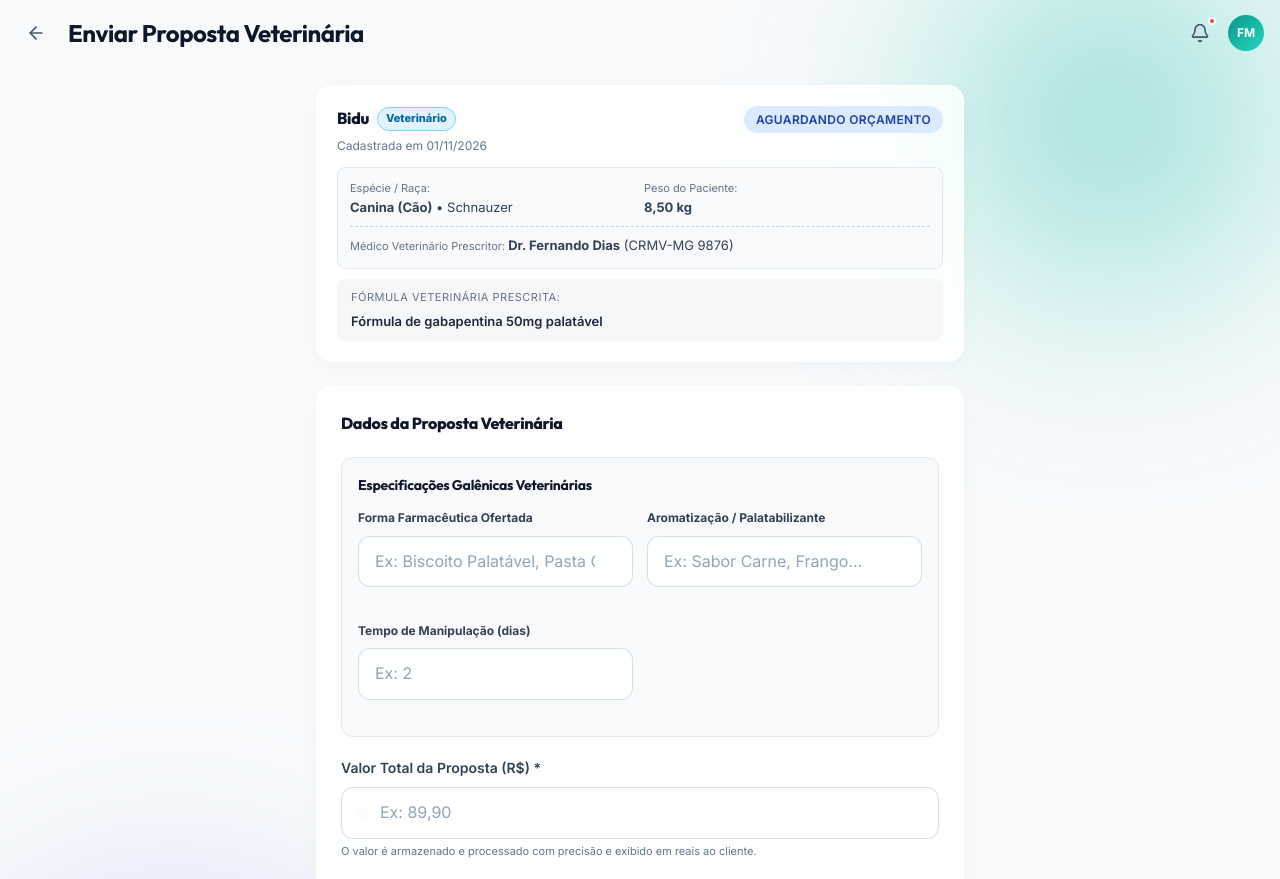
it: SendQuote Component - Farmácia (ETAPA V5) › submete cotação com valor e especificações galênicas veterinárias
The width and height of the screenshot is (1280, 879).
Type "75,00" into the field with placeholder "Ex: 89,90" at [640, 813], box [341,787,939,839]
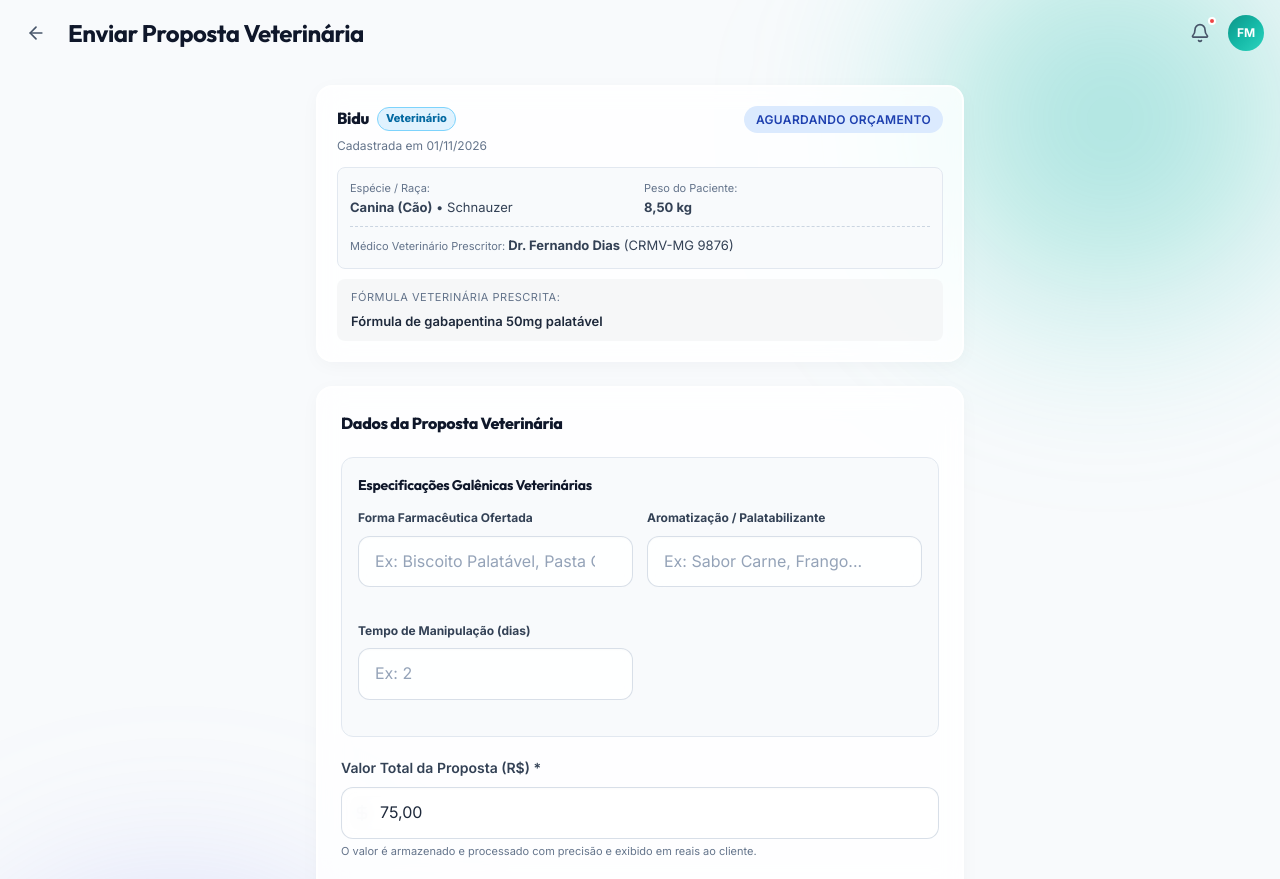
Type "Biscoito Palatável" into the field with placeholder "Ex: Biscoito Palatável, Pasta Oral..." at [496, 561], box [358,536,633,587]
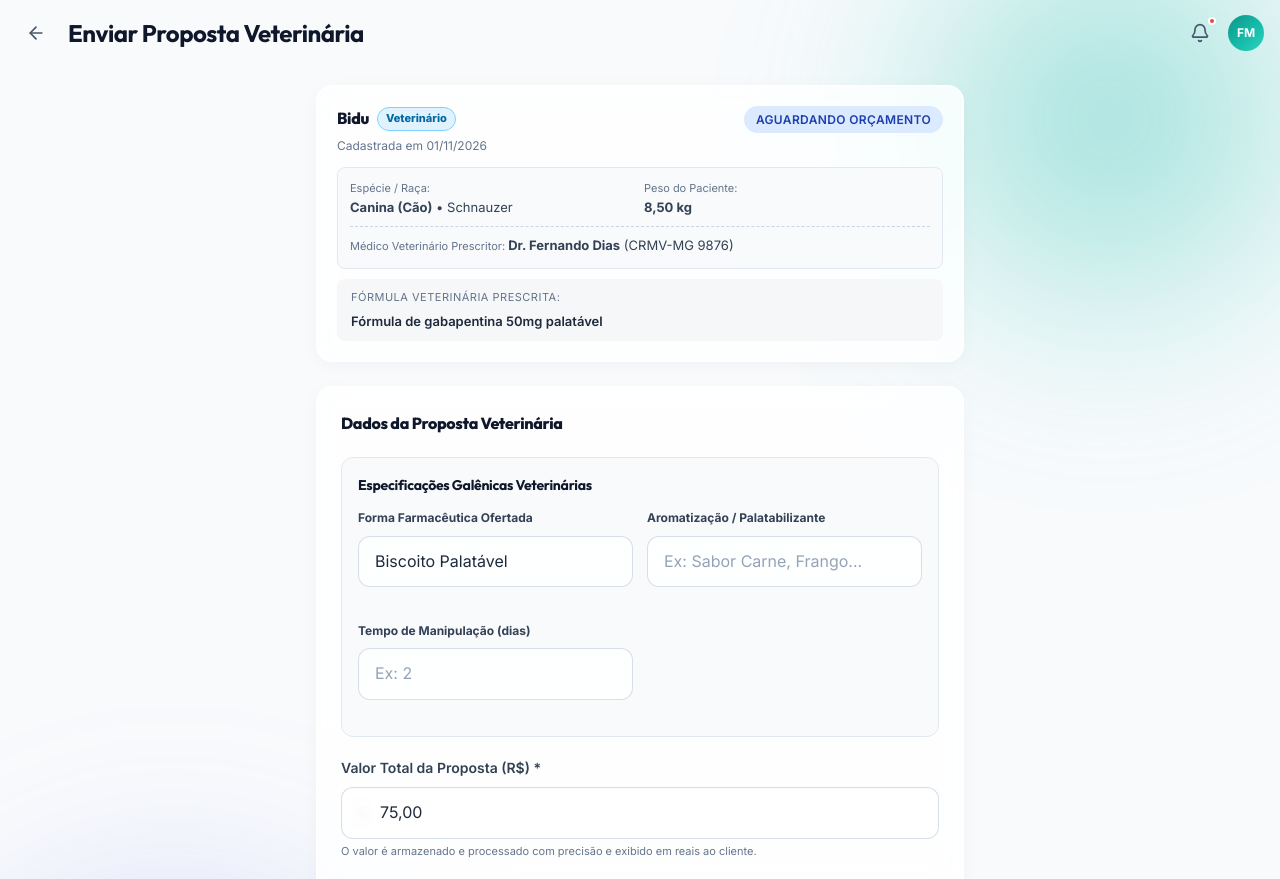
Type "Sabor Carne" into the field with placeholder "Ex: Sabor Carne, Frango..." at [784, 561], box [647,536,922,587]
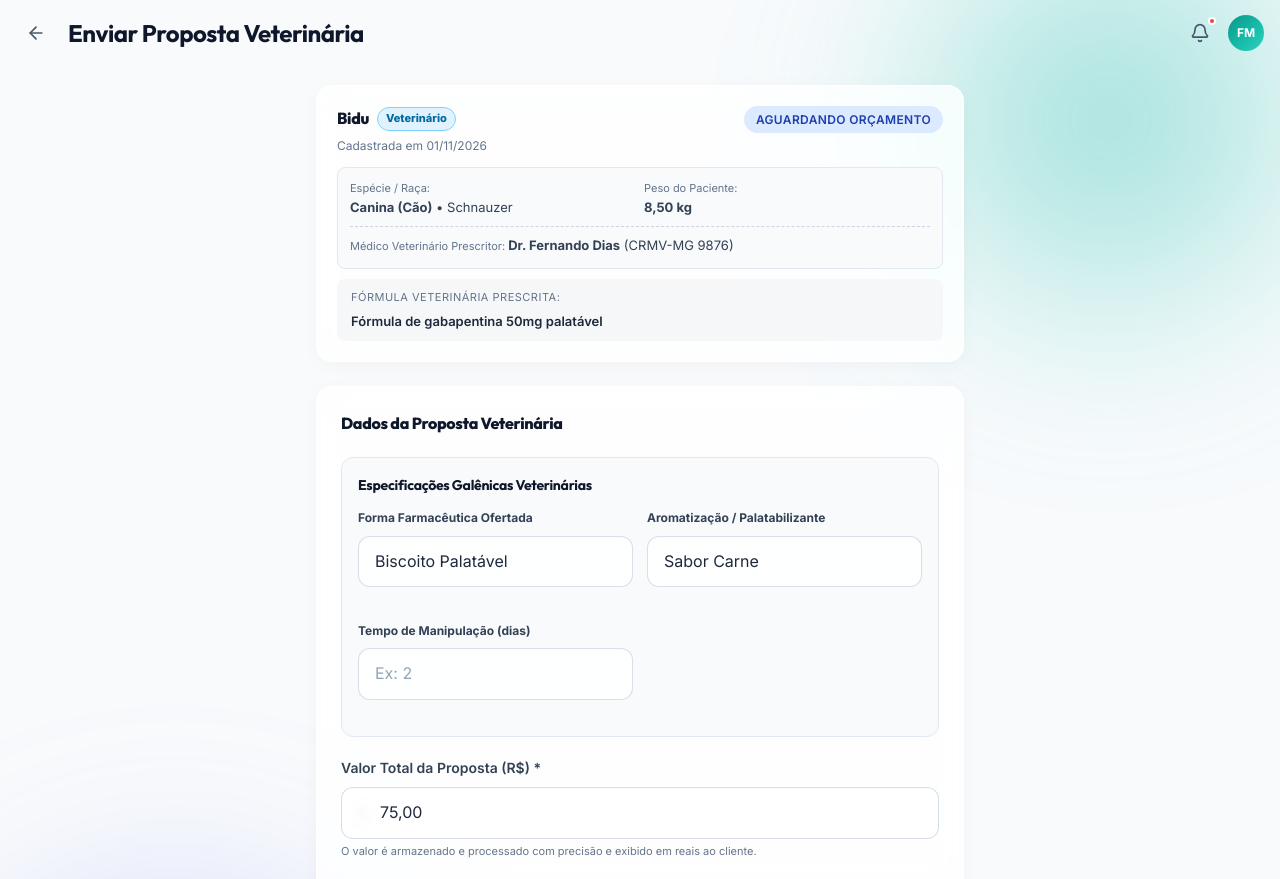
Type "2" into the number field with placeholder "Ex: 2" at [496, 674], box [358,648,633,700]
(page scrolled)
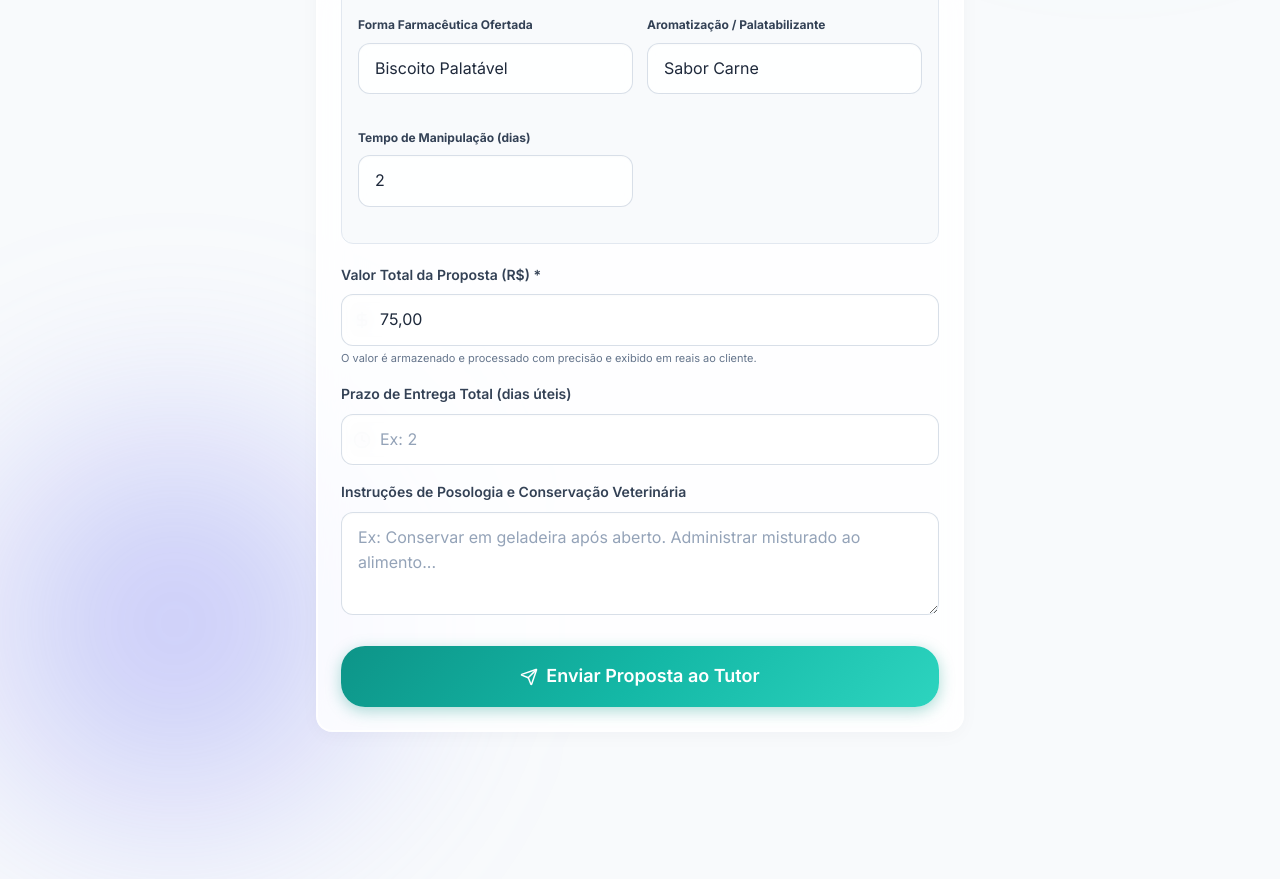
Type "3" into the number field with placeholder "Ex: 2" at [640, 440], box [341,414,939,466]
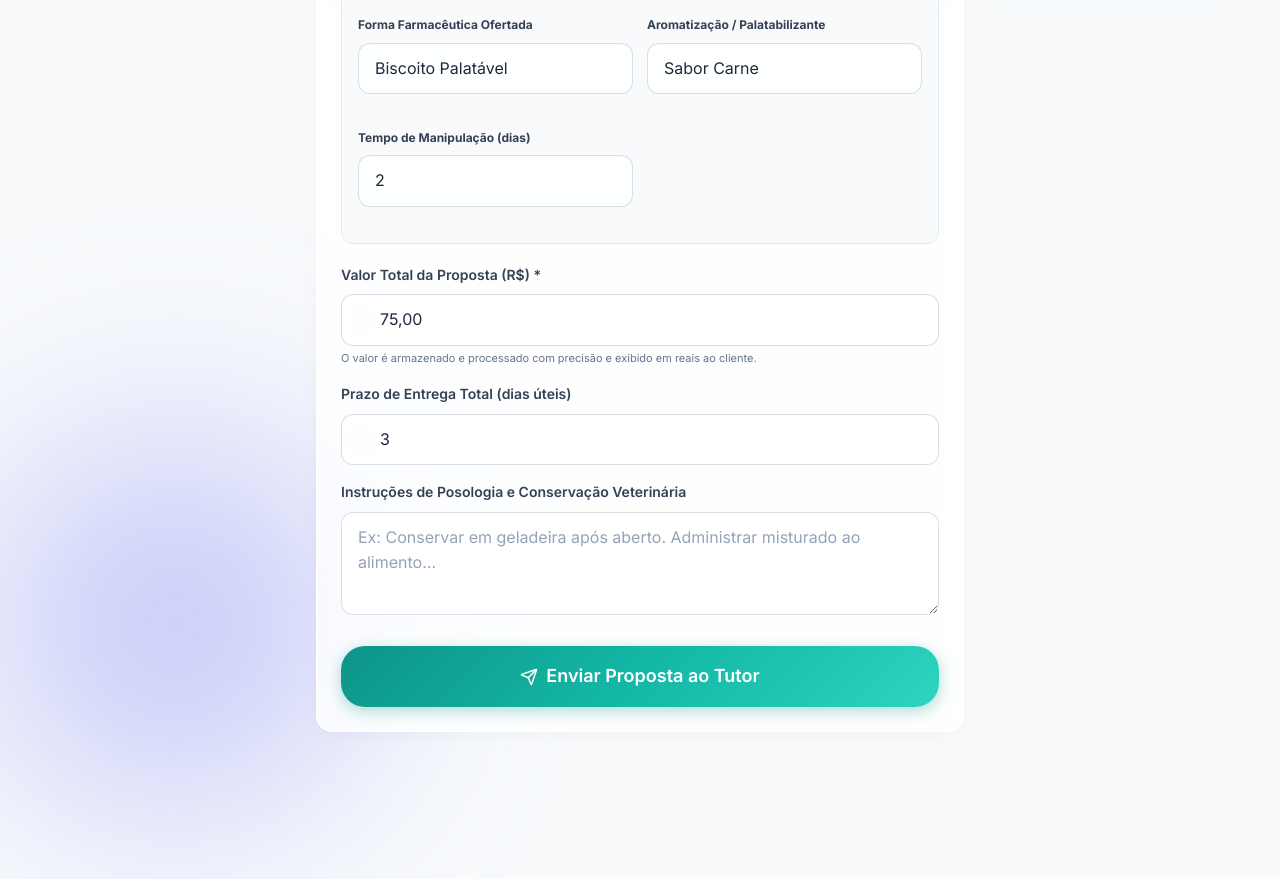
Click the button "Enviar Proposta ao Tutor" at [640, 677], box [341,646,939,707]
(page scrolled)
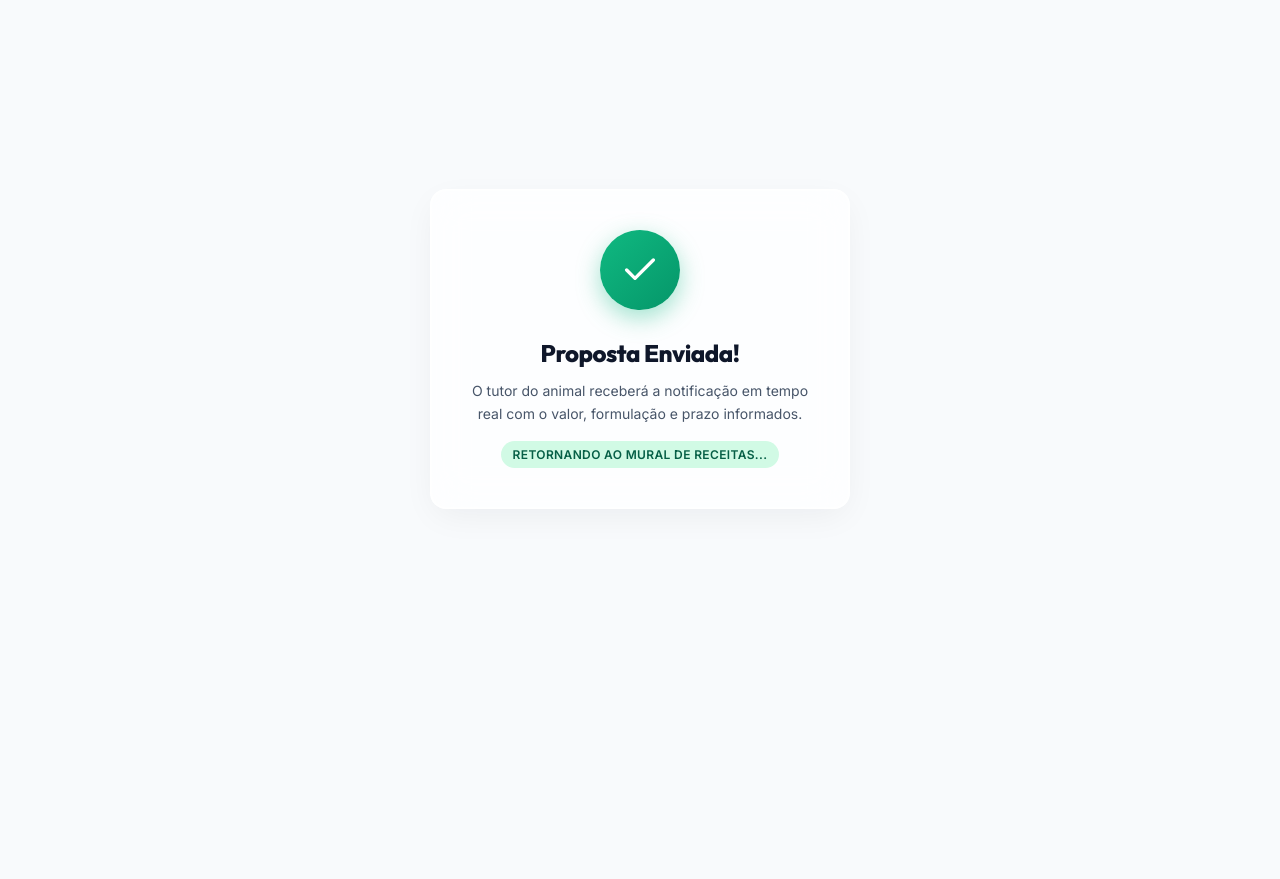
Now the heading "Proposta Enviada!" is shown, box [540,334,740,372]
